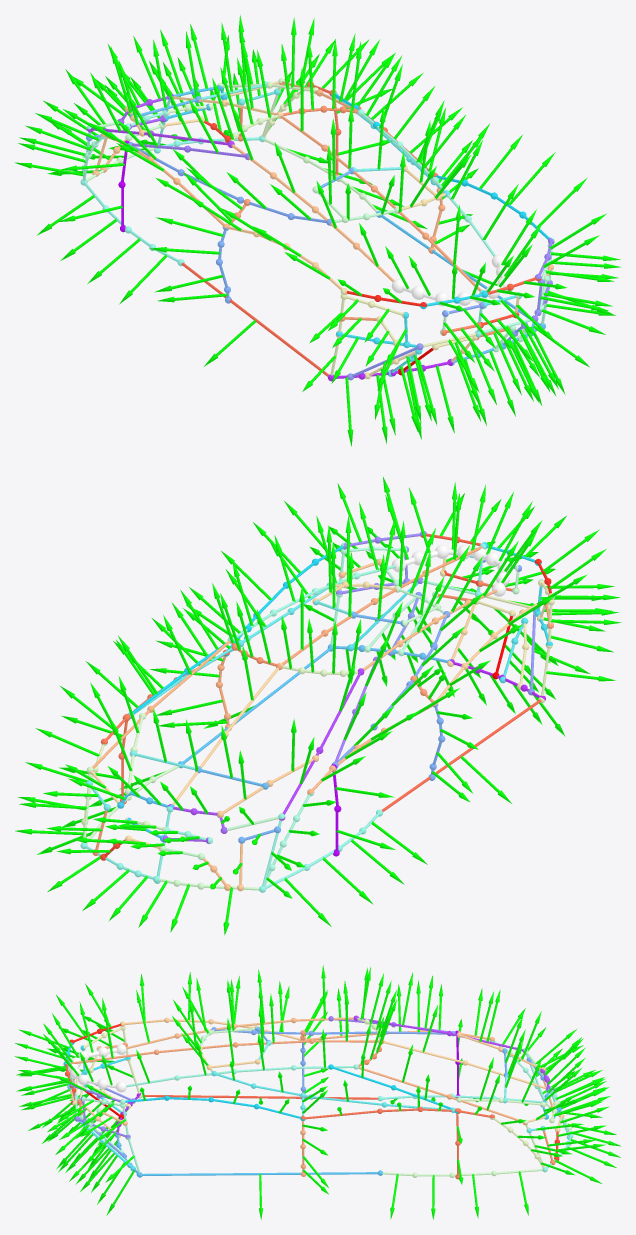
File: ils_car3.gltf
3 views of the same model, one above another, from view 1: azimuth 30°, elevation 25°; view 2: azimuth 150°, elevation 25°; view 3: azimuth 270°, elevation 25° (orthographic). The views are drawn at different scales.
Size of the model in its own units: 0.5441 by 0.3697 by 1.1.
